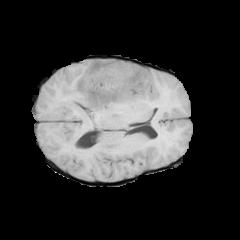glioma: (61, 59, 145, 115)
